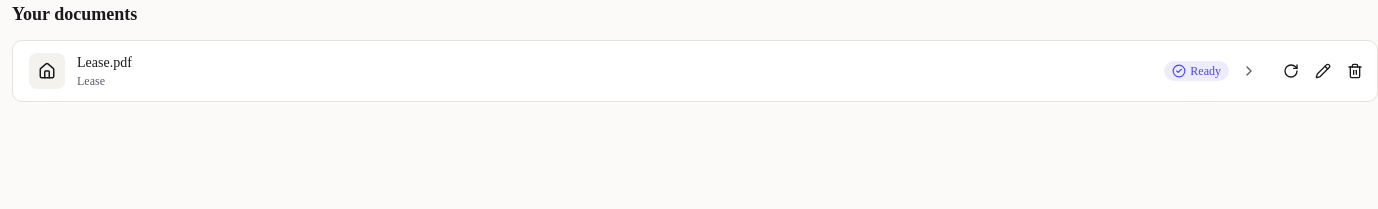
Test: DocumentList › editing › warns that changing the kind clears the saved key terms and questions, but not for a rename
Click the button named "Edit Lease.pdf" at x=1323, y=71, box 1309,57 -> 1337,85
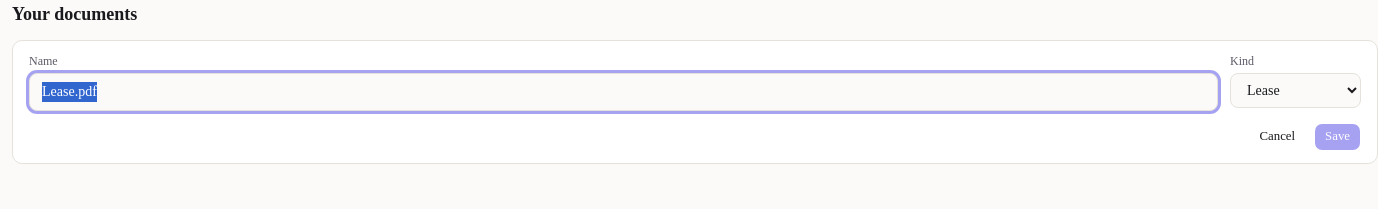
Type " v2" into the field labelled "Name" at x=624, y=92, box 29,73 -> 1218,111
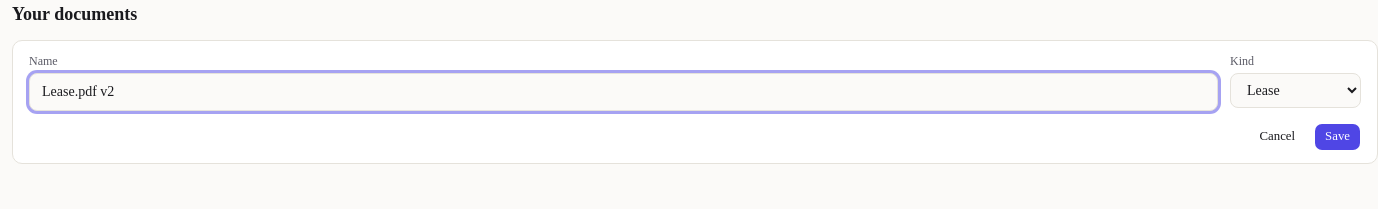
Expected: the text "clears this document's saved key terms" is not shown
Select "Education loan" in the dropdown labelled "Kind" at x=1296, y=90, box 1230,73 -> 1361,108
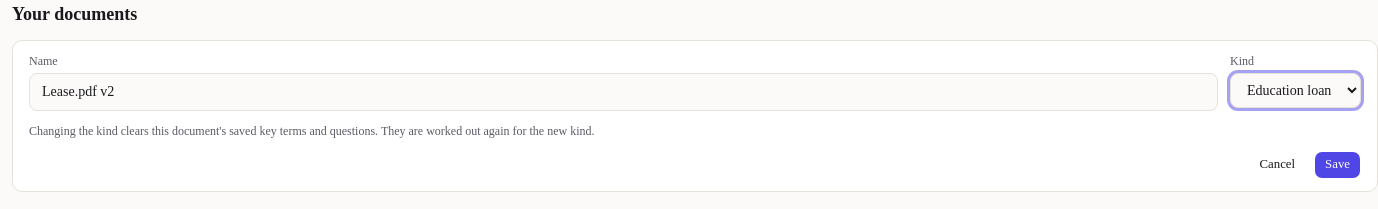
Now the text "clears this document's saved key terms" is shown, box 29,124 -> 594,138
Select "Lease" in the dropdown labelled "Kind" at x=1296, y=90, box 1230,73 -> 1361,108
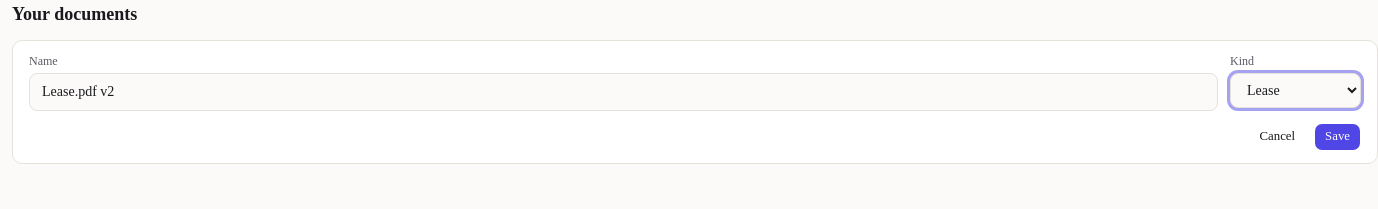
Now the text "clears this document's saved key terms" is gone
